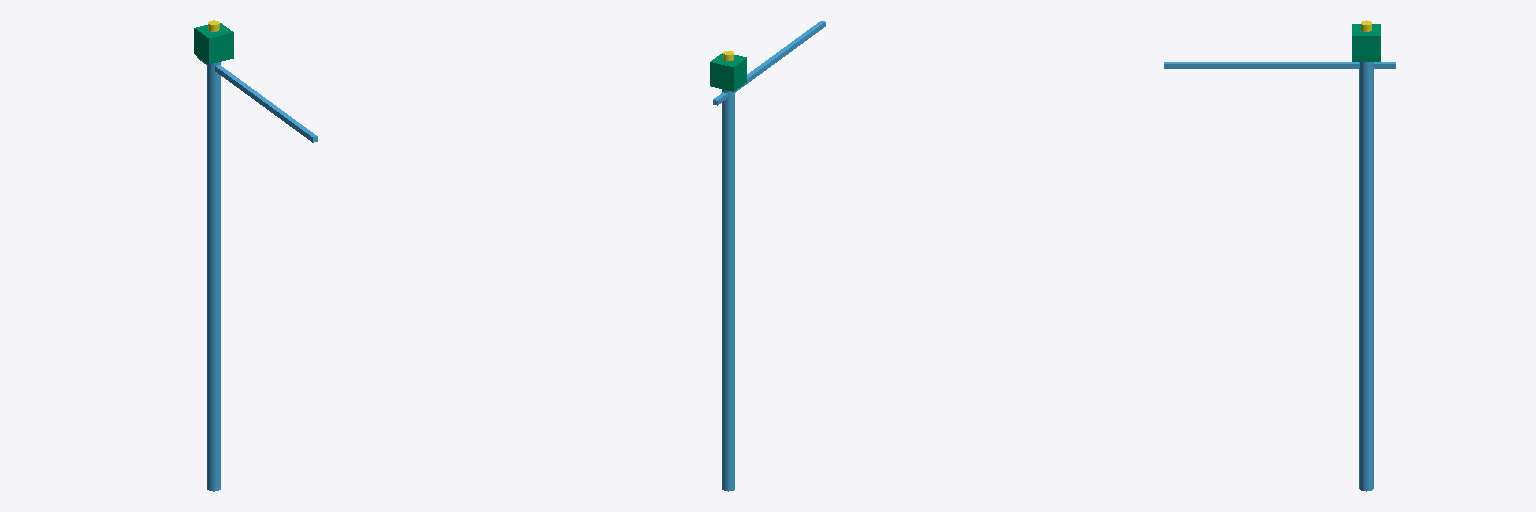
robot.urdf — ram:
<?xml version="1.0"?>
<!-- A ram on a level rail at the open field's tree_1 (test_branches_run): a 20 cm box of 2 kg
     driven along -y into the crown at 3.35 m, a lidar on it looking ahead. -->
<robot name="ram">
  <link name="world"/>
  <link name="rail">
    <inertial><mass value="10"/><inertia ixx="1" iyy="1" izz="1" ixy="0" ixz="0" iyz="0"/></inertial>
    <visual><origin xyz="0 0 -1.7"/><geometry><cylinder radius="0.05" length="3.4"/></geometry></visual>
    <visual><origin xyz="0 -0.6 -0.17"/><geometry><box size="0.04 1.6 0.04"/></geometry></visual>
  </link>
  <joint name="rail_joint" type="fixed">
    <parent link="world"/><child link="rail"/><origin xyz="18.12 9.9 3.345" rpy="0 0 0"/>
  </joint>
  <link name="ram">
    <inertial><mass value="2.0"/><inertia ixx="0.02" iyy="0.02" izz="0.02" ixy="0" ixz="0" iyz="0"/></inertial>
    <collision><geometry><box size="0.2 0.2 0.2"/></geometry></collision>
    <visual><geometry><box size="0.2 0.2 0.2"/></geometry></visual>
  </link>
  <joint name="ram_joint" type="prismatic">
    <parent link="rail"/><child link="ram"/><axis xyz="0 -1 0"/>
    <limit lower="0" upper="2.0" effort="40" velocity="1.0"/>
  </joint>
  <link name="lidar_link">
    <inertial><mass value="0.1"/><inertia ixx="0.0001" iyy="0.0001" izz="0.0001" ixy="0" ixz="0" iyz="0"/></inertial>
    <visual><geometry><cylinder radius="0.04" length="0.05"/></geometry></visual>
  </link>
  <joint name="lidar_joint" type="fixed">
    <parent link="ram"/><child link="lidar_link"/><origin xyz="0 0 0.13" rpy="0 0 -1.5708"/>
  </joint>
  <gazebo reference="lidar_link">
    <sensor name="front_lidar" type="gpu_lidar">
      <update_rate>10</update_rate>
      <lidar>
        <scan>
          <horizontal><samples>900</samples><min_angle>-1.0</min_angle><max_angle>1.0</max_angle></horizontal>
          <vertical><samples>64</samples><min_angle>-0.7</min_angle><max_angle>0.7</max_angle></vertical>
        </scan>
        <range><min>0.15</min><max>20.0</max></range>
      </lidar>
    </sensor>
  </gazebo>
</robot>

--- What the picture shows (computed from the rendered views, not written in the file) ---
Views: 3 orthographic renders of the robot side by side, from view 1: azimuth 30°, elevation 25°; view 2: azimuth 150°, elevation 25°; view 3: azimuth 270°, elevation 25°.
Robot: ram — 4 links, 3 joints (1 prismatic, 2 fixed); root link world; default pose: every joint at zero.
Links seen in each view (by area): view 1: rail, ram; view 2: rail, ram; view 3: rail, ram.
Link boxes in pixels (<box>): rail: <box>197,56,317,491</box>; ram: <box>194,23,233,63</box>; rail: <box>713,21,825,491</box>; ram: <box>710,53,746,91</box>; rail: <box>1164,62,1395,491</box>; ram: <box>1352,24,1380,61</box>.
Bounding box of the posed robot: 0.2 × 1.6 × 3.56 m (x, y, z).
Geometry: primitives only (box / cylinder / sphere), no mesh files.
